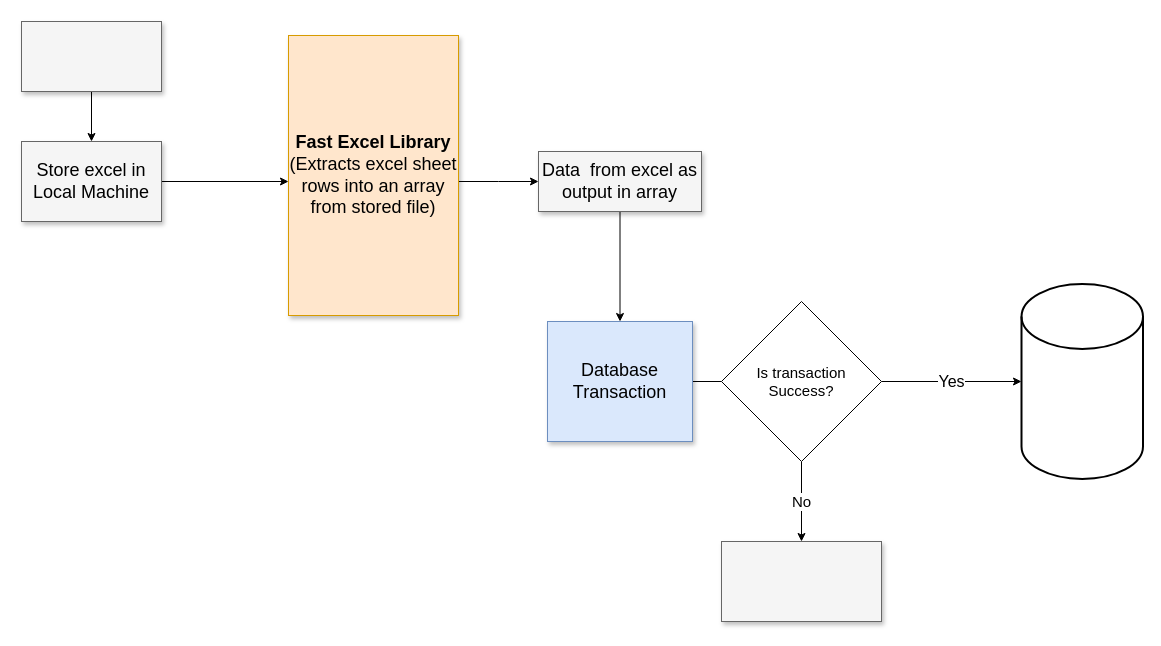
The diagram is 1161 pixels wide and 646 high, and some of its shapes have lost their labels. The shapes that lost their labels are listed below. From the top down, each one's centre as x and y in pixels, then its label:
(92,57): Upload an excel file
(1082,381): Mysql Database (Store)
(802,582): Rollback transaction
